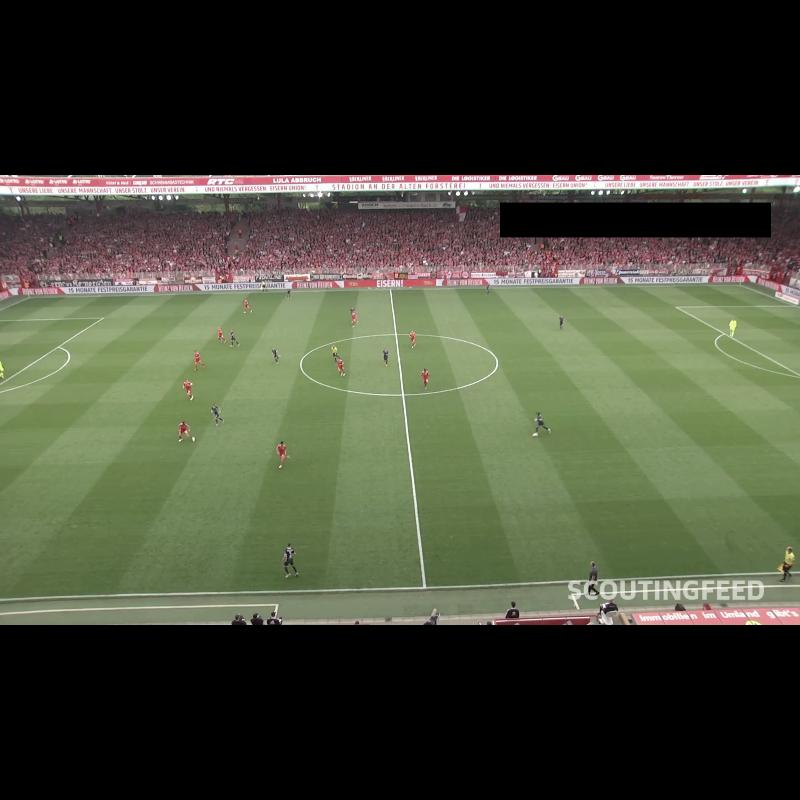cross_recipient_zone: (676, 305, 800, 375), (0, 318, 103, 384)
crossing_player_zone: (0, 293, 212, 320), (568, 285, 792, 308), (0, 465, 29, 493), (774, 445, 800, 465)
pitch: (0, 285, 800, 599)
